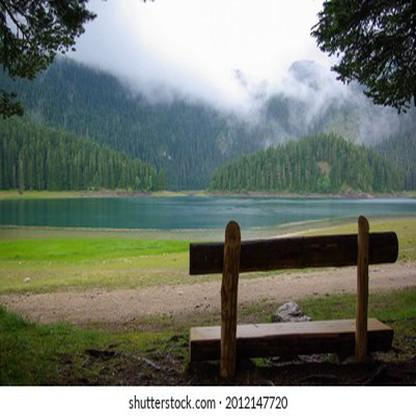obstacle: (172, 213, 405, 376)
